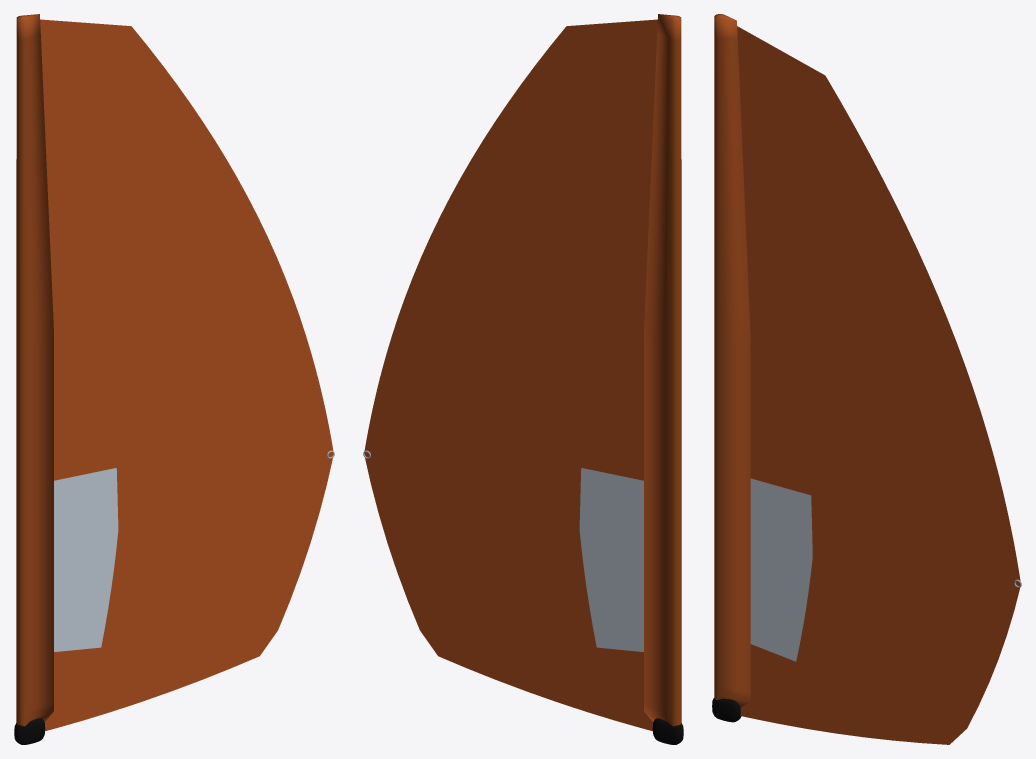
The model's file is savanna_slalom_6_5.glb.
3 renders of one model, left to right at view 1: azimuth 30°, elevation 25°; view 2: azimuth 150°, elevation 25°; view 3: azimuth 330°, elevation 25°, orthographic. The views are drawn at different scales.
Visible parts, largest first — view 1: SailCloth, TackFairing; view 2: SailCloth, TackFairing; view 3: SailCloth, TackFairing.
Boxes of the visible parts, box(x1,y1,x2,y2) form: SailCloth: box(16, 14, 333, 731); TackFairing: box(14, 718, 45, 744); SailCloth: box(364, 14, 681, 731); TackFairing: box(652, 718, 683, 744); SailCloth: box(714, 14, 1020, 744); TackFairing: box(712, 698, 741, 722).
Bounding box in the file's own units: 2.03 × 4.43 × 0.08.
